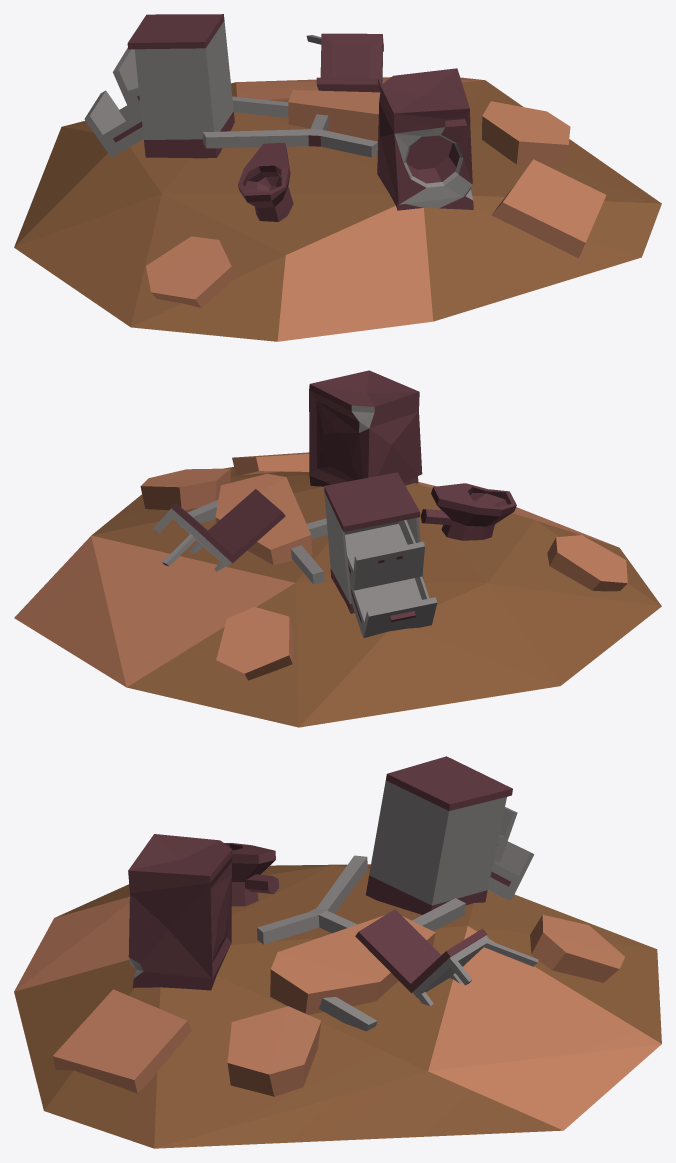
Rendered from rubble-apocalypse-f.fbx.
The picture shows the model from 3 angles, top to bottom: view 1: azimuth 30°, elevation 25°; view 2: azimuth 150°, elevation 25°; view 3: azimuth 270°, elevation 25°; orthographic projection. The views are drawn at different scales.
Parts seen in each view (by area): view 1: rubble-apocalypse-f; view 2: rubble-apocalypse-f; view 3: rubble-apocalypse-f.
Boxes of the visible parts, x1,y1,x2,y2 form: rubble-apocalypse-f: [14, 14, 661, 341]; rubble-apocalypse-f: [14, 370, 661, 727]; rubble-apocalypse-f: [14, 756, 661, 1148].
Size of the model in its own units: 4.6 by 1.4 by 4.42.
